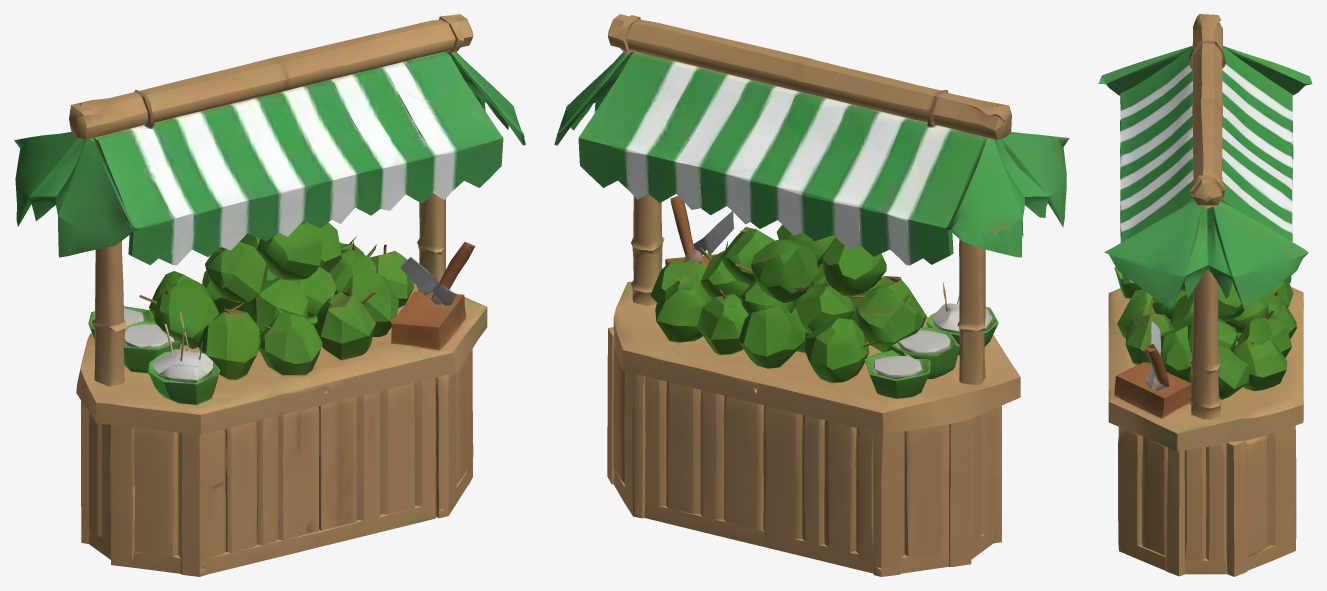
The model's file is stall_coconut.glb.
3 views of the same model, side by side, from view 1: azimuth 30°, elevation 25°; view 2: azimuth 150°, elevation 25°; view 3: azimuth 270°, elevation 25° (orthographic). The views are drawn at different scales.
Parts seen in each view (by area): view 1: model; view 2: model; view 3: model.
Part boxes in pixels (bbox=[...]): model: bbox=[14, 14, 525, 576]; model: bbox=[554, 14, 1069, 576]; model: bbox=[1098, 14, 1312, 576].
Bounding box in the file's own units: 1.9 × 1.76 × 0.8523.
Materials: 1 (1 with a texture image).
